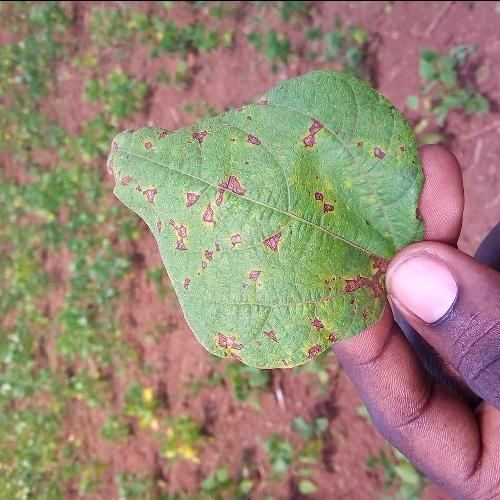hawar: (106, 121, 263, 270), (321, 258, 386, 304), (350, 132, 413, 167), (213, 315, 251, 368), (292, 110, 334, 152), (304, 314, 336, 366), (310, 186, 344, 221), (253, 322, 287, 356)
